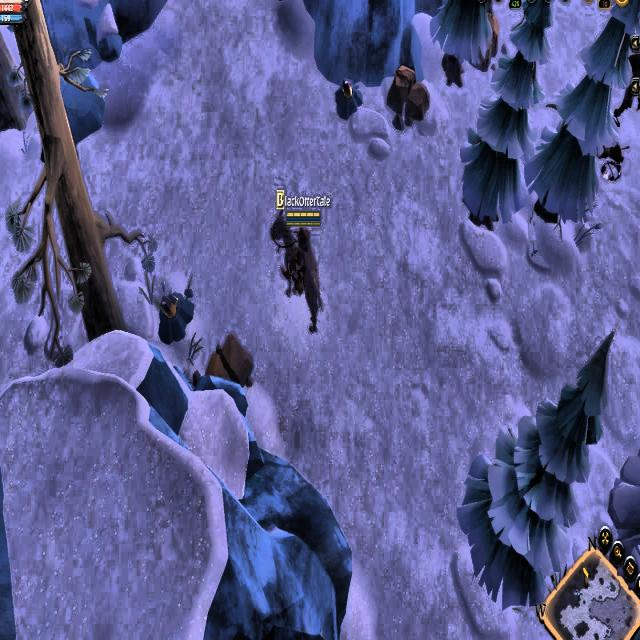copperore: (155, 285, 196, 341), (333, 74, 361, 118)
limestone: (205, 332, 253, 394), (387, 63, 428, 129), (473, 8, 500, 69)
